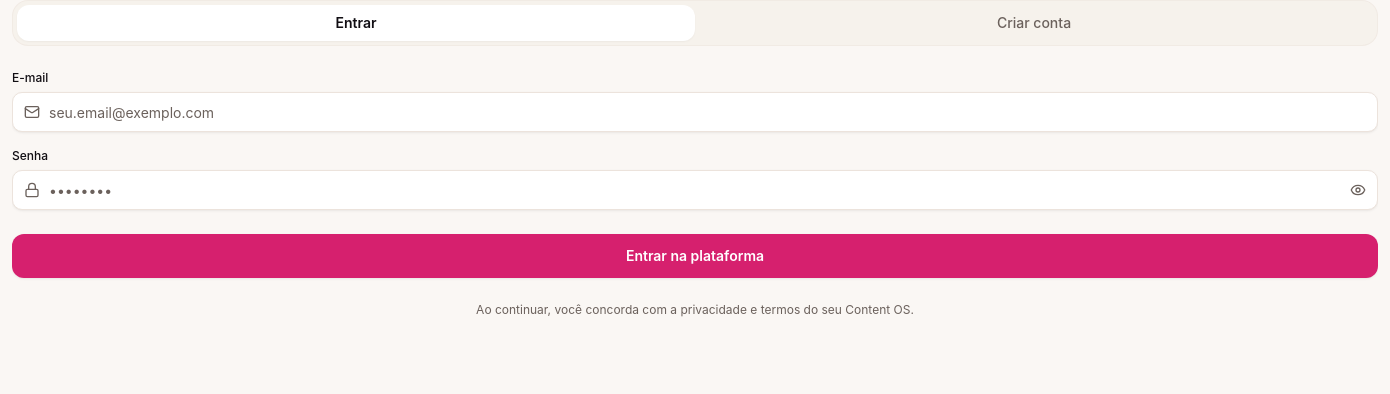
Scenario: LoginForm › exibe mensagem de erro quando o login falha
The image size is (1390, 394).
In the field labelled "E-mail": point(695, 112) x1=12 y1=92 x2=1378 y2=132, type "errado@exemplo.com"
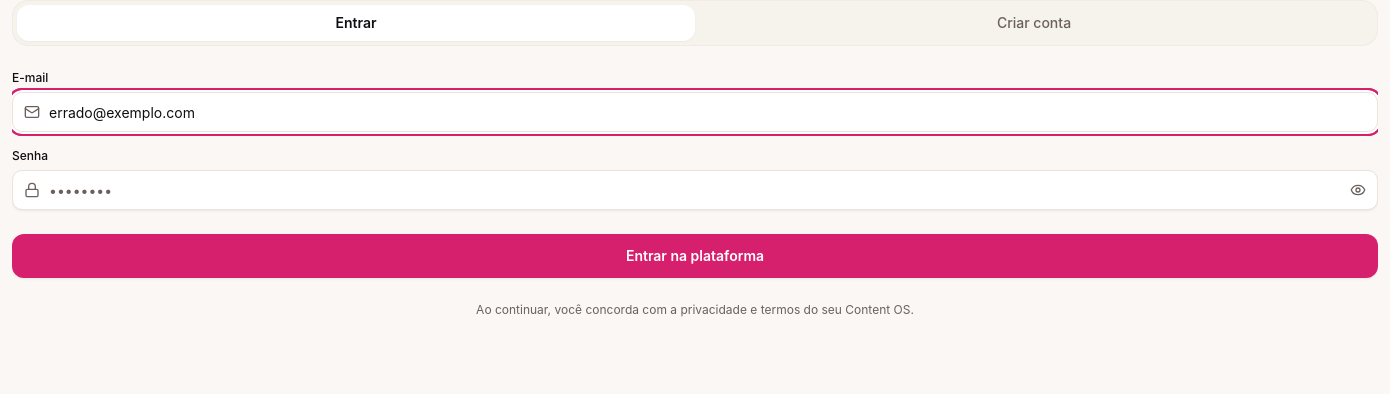
In the password field labelled "Senha": point(695, 190) x1=12 y1=170 x2=1378 y2=210, type "senhaerrada"
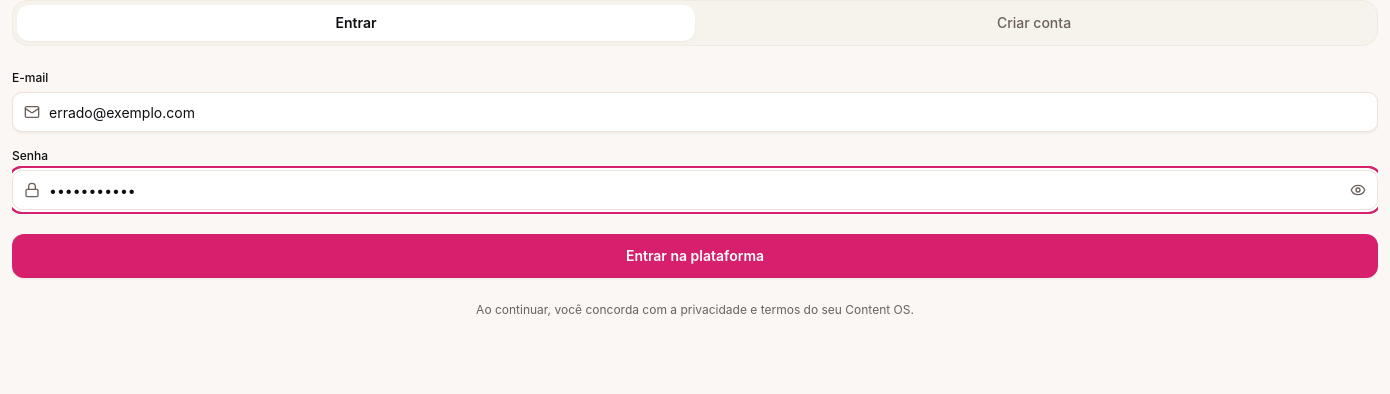
Click the button "Entrar na plataforma": point(695, 256) x1=12 y1=234 x2=1378 y2=278
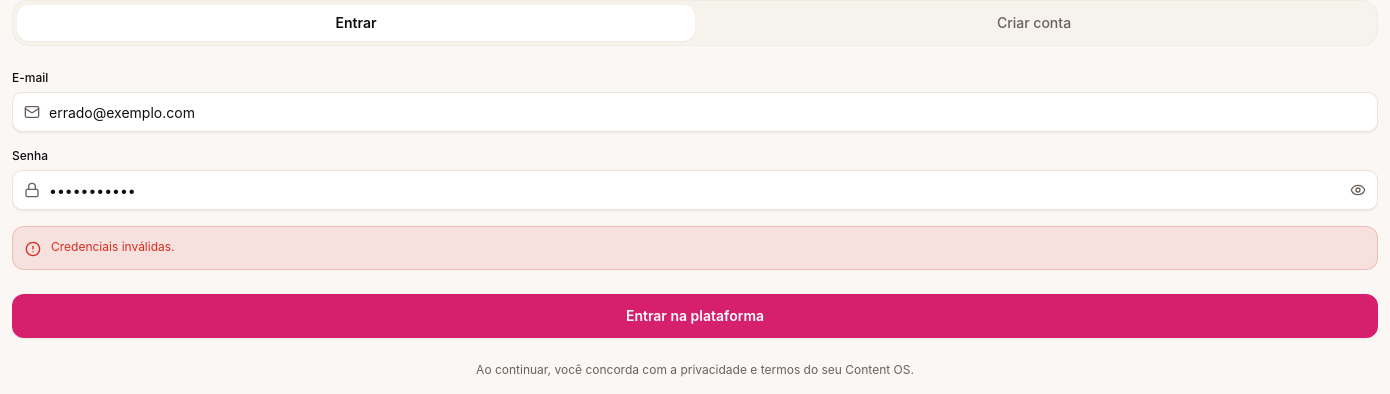
Result: the message reads "Credenciais inválidas." at x1=51 y1=239 x2=175 y2=254
